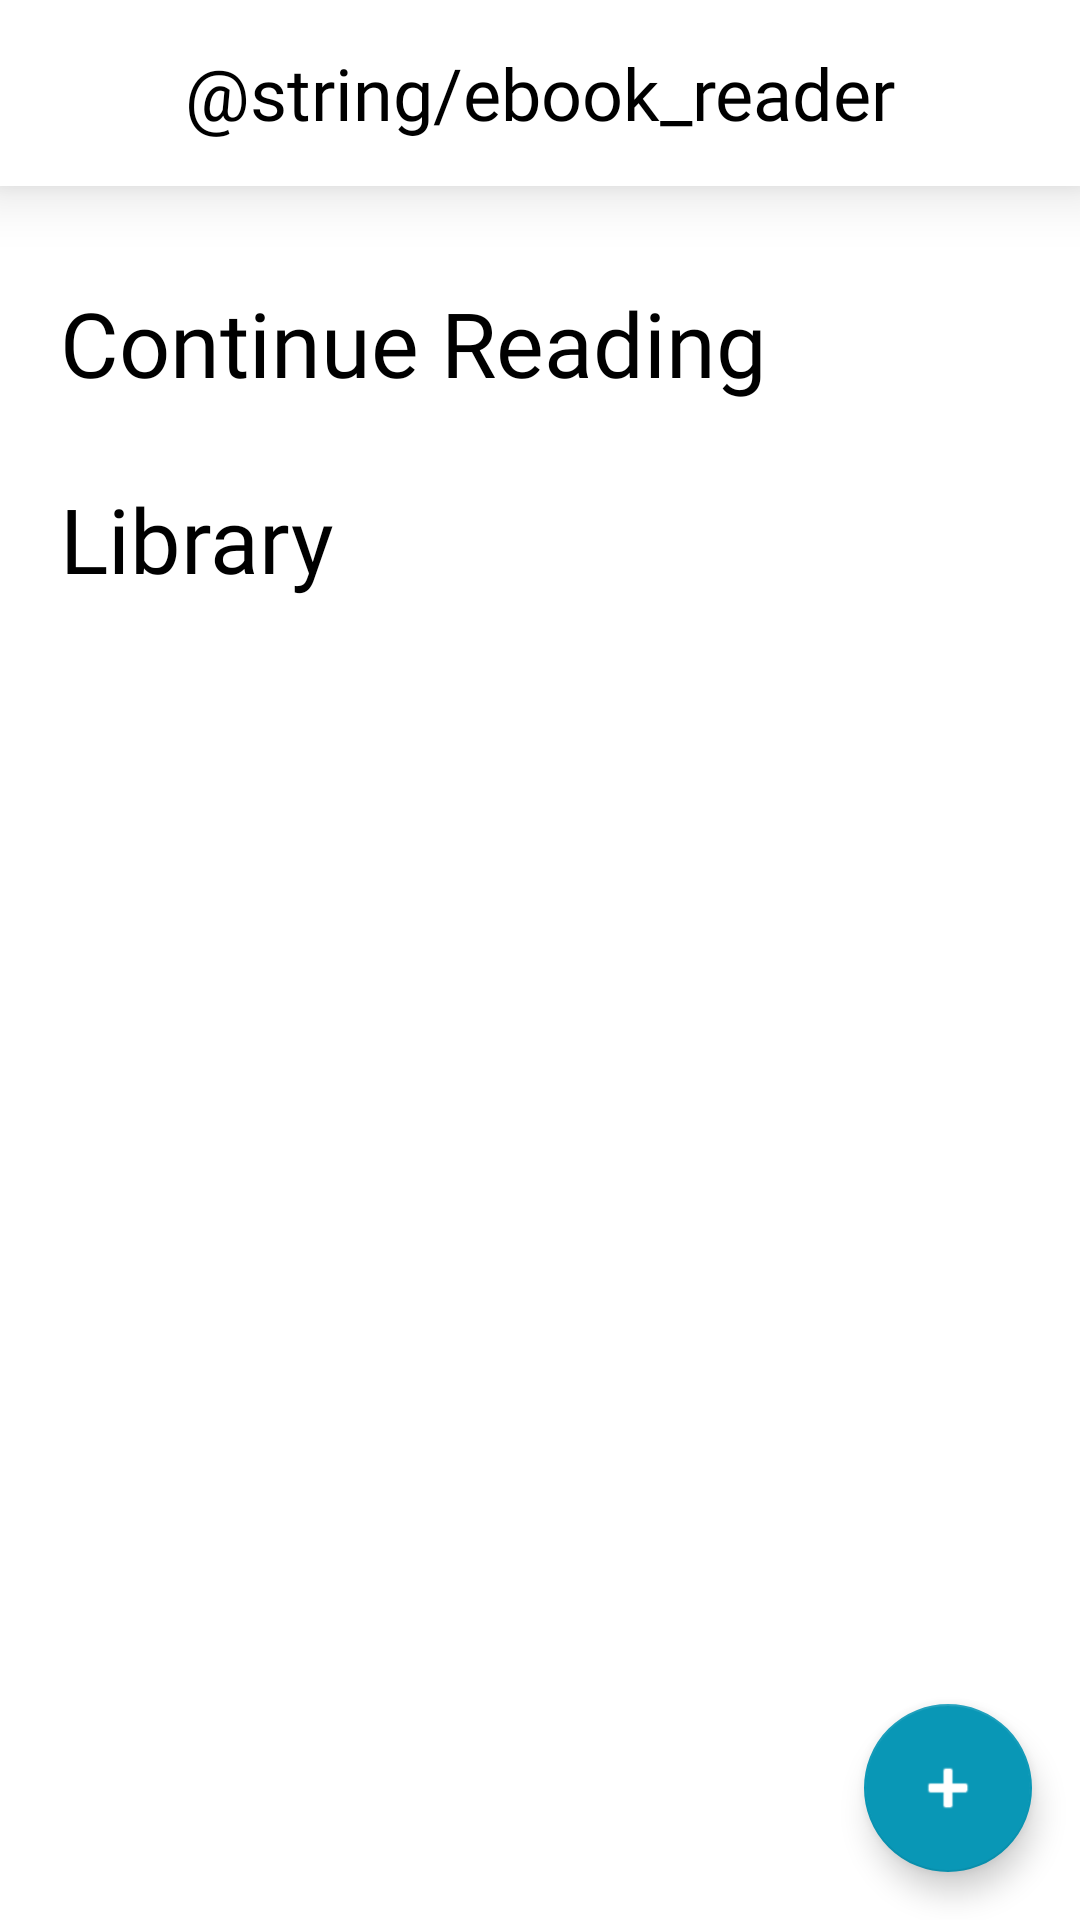

Where to tap for icons on this 1080 x 1920 app screen, as [x,y]:
Add book: [948,1788]
